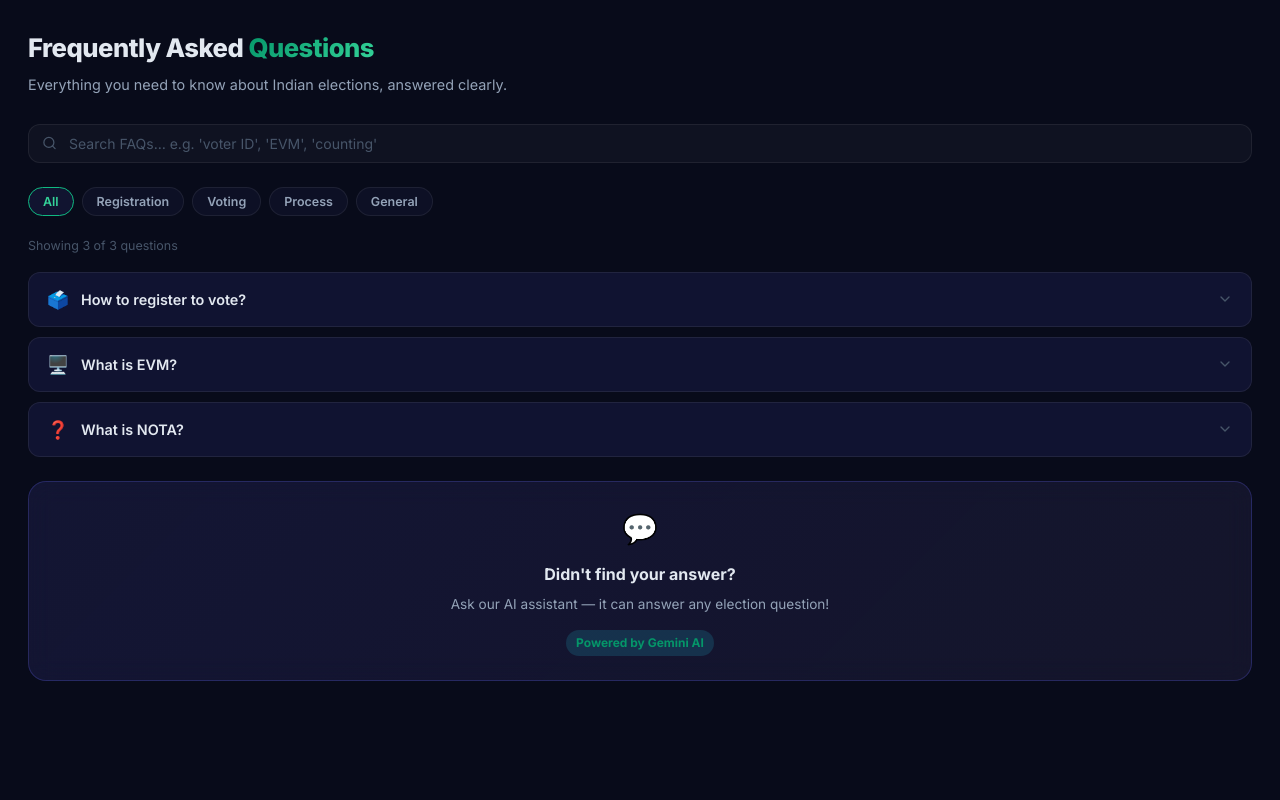
Test: FAQ Page › filters by category when a category button is clicked
This screenshot has width=1280, height=800.
Click the button "Voting" at [227, 202], box [192,187,261,216]
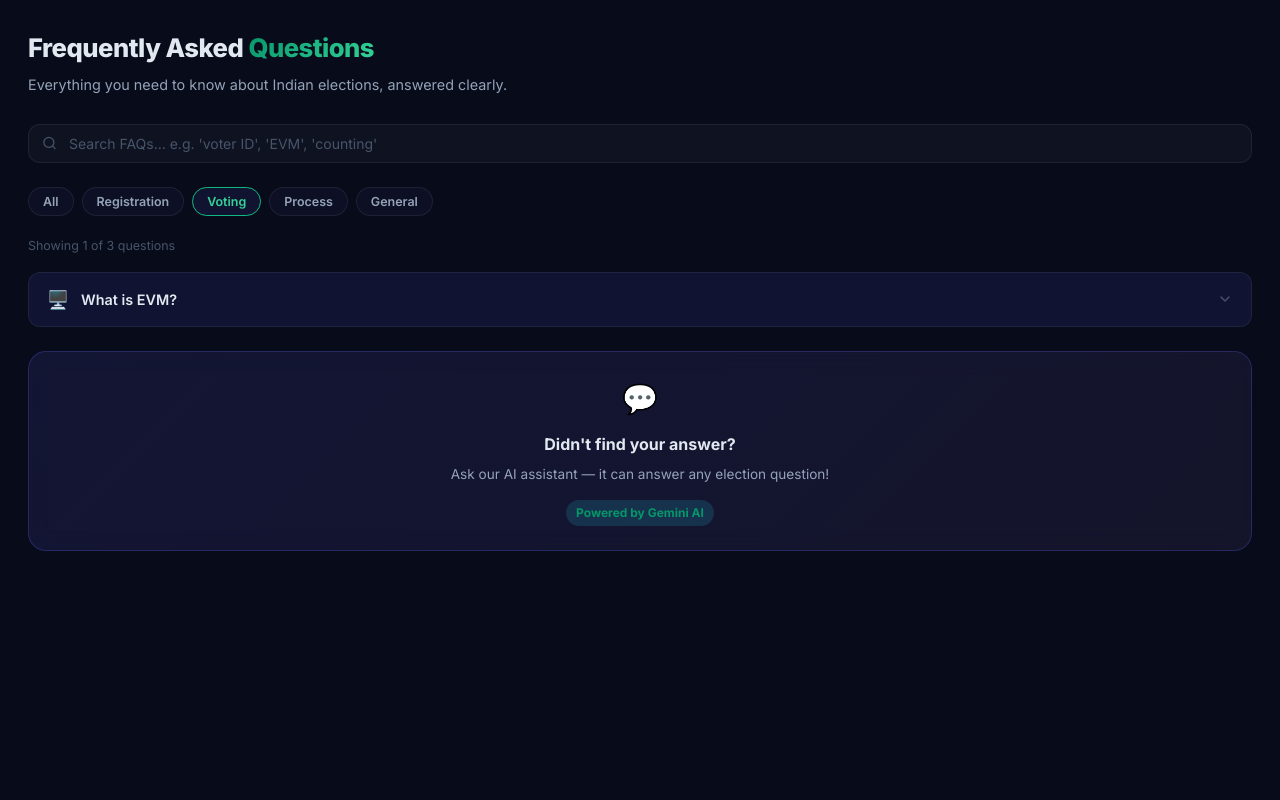
Expected: the text "What is EVM?" is shown, [81,291,177,308]
Expected: the button "How to register to vote?" is gone
